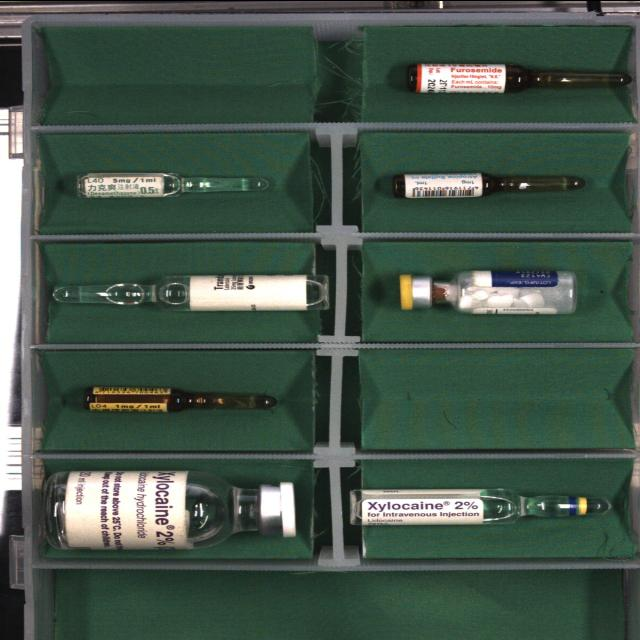Vials: (45, 470, 297, 549), (399, 270, 576, 313)
